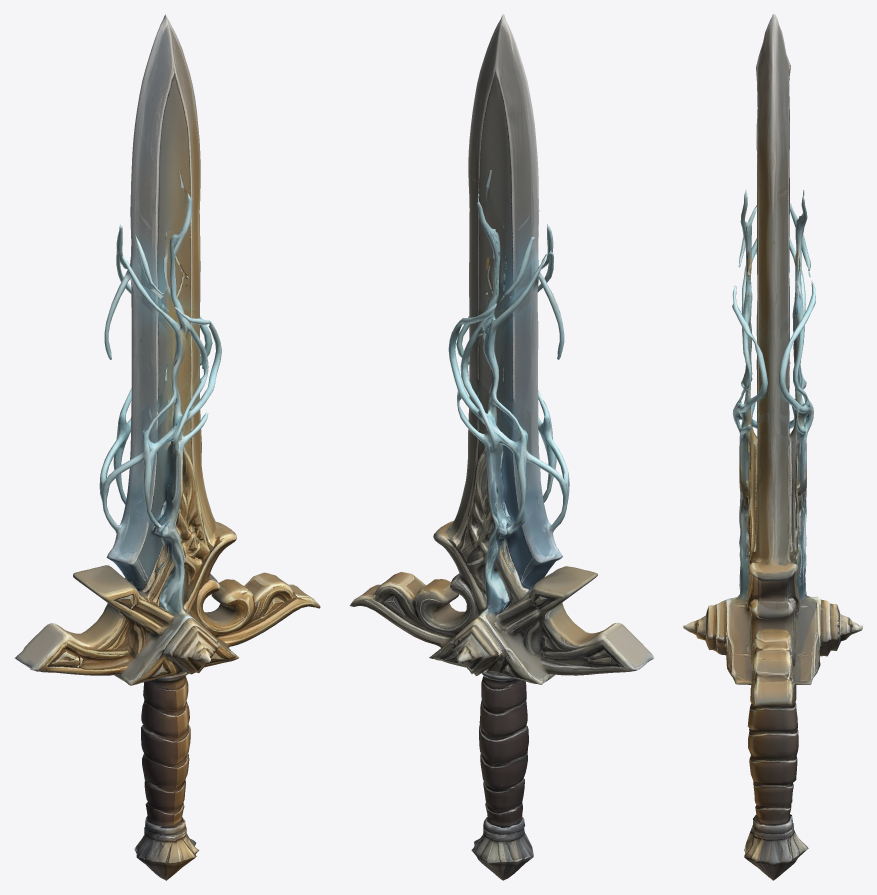
File: kilic.glb
3 renders of one model, left to right at view 1: azimuth 30°, elevation 25°; view 2: azimuth 150°, elevation 25°; view 3: azimuth 270°, elevation 25°, orthographic.
Parts seen in each view (by area): view 1: tripo_node_105e3b8b-a120-4190-b339-41a31981cbb7; view 2: tripo_node_105e3b8b-a120-4190-b339-41a31981cbb7; view 3: tripo_node_105e3b8b-a120-4190-b339-41a31981cbb7.
Boxes of the visible parts, x1,y1,x2,y2 form: tripo_node_105e3b8b-a120-4190-b339-41a31981cbb7: (14,14,320,880); tripo_node_105e3b8b-a120-4190-b339-41a31981cbb7: (349,14,654,880); tripo_node_105e3b8b-a120-4190-b339-41a31981cbb7: (683,14,862,880).
Bounding box in the file's own units: 0.3423 × 0.981 × 0.1846.
1 material, 1 textured.
